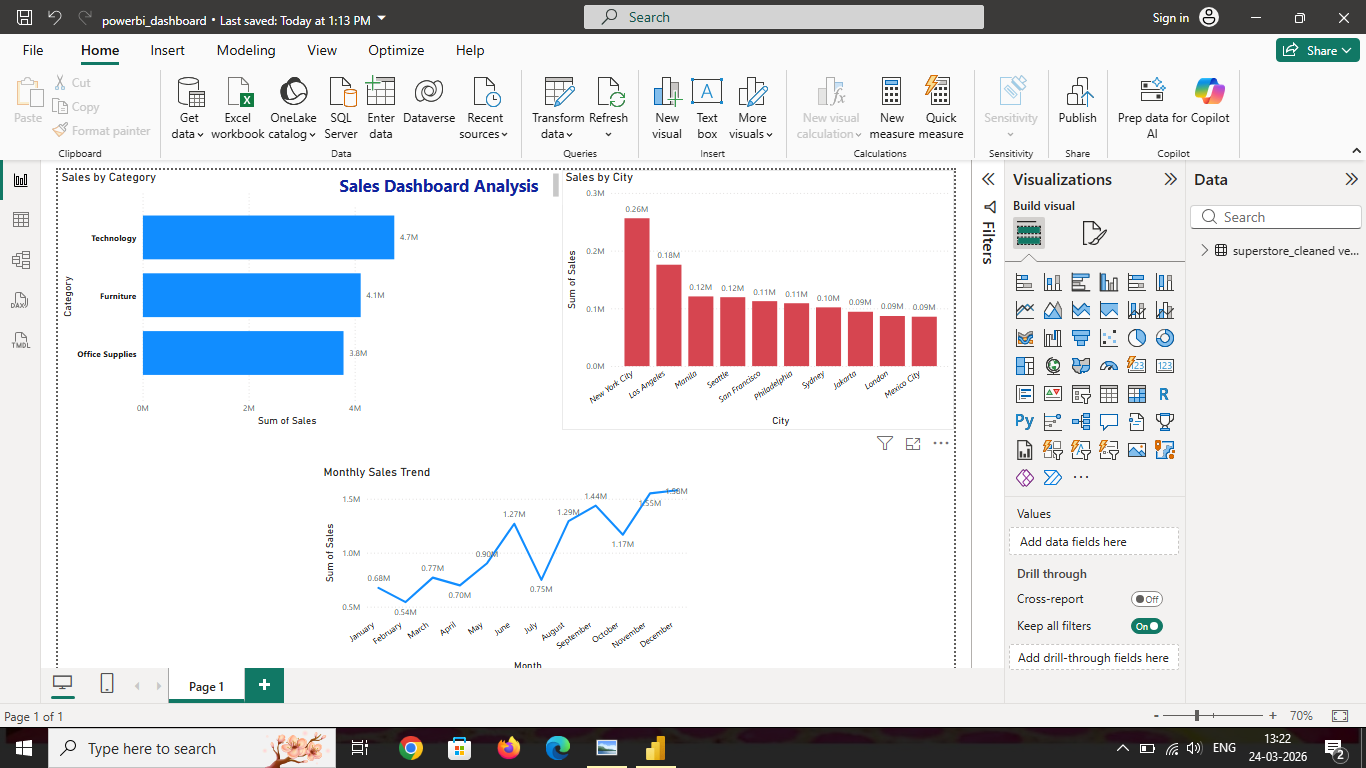

The dashboard page shown, as its layout file describes it:
{"tool":"powerbi","page":{"name":"Page 1","canvas":[1280,720],"ordinal":0},"visuals":[{"type":"clusteredBarChart","title":" Sales by Category","fields":{"Category":["superstore_cleaned  very small.Category"],"Y":["Sum(superstore_cleaned  very small.Sales)"]},"box":[0,0,547.6,371.2],"z":0},{"type":"clusteredColumnChart","title":" Sales by City","fields":{"Category":["superstore_cleaned  very small.City"],"Y":["Sum(superstore_cleaned  very small.Sales)"]},"box":[720.6,0,559.4,371.2],"z":1000},{"type":"lineChart","title":"Monthly Sales Trend","fields":{"Category":["superstore_cleaned  very small.Order_Date.Variation.Date Hierarchy.Month"],"Y":["Sum(superstore_cleaned  very small.Sales)"]},"box":[374.6,421.6,530.8,299],"z":2000},{"type":"textbox","box":[374.6,0,346,50.4],"z":3000}]}

Visuals, with their boxes on the page's 1280x720 design canvas (x1, y1, x2, y2). These are canvas units, not pixel positions in the 1366x768 screenshot, which may show the page scaled, cropped or inside an application window:
" Sales by Category" clusteredBarChart: 0:0:548:371
" Sales by City" clusteredColumnChart: 721:0:1280:371
"Monthly Sales Trend" lineChart: 375:422:905:721
textbox: 375:0:721:50
